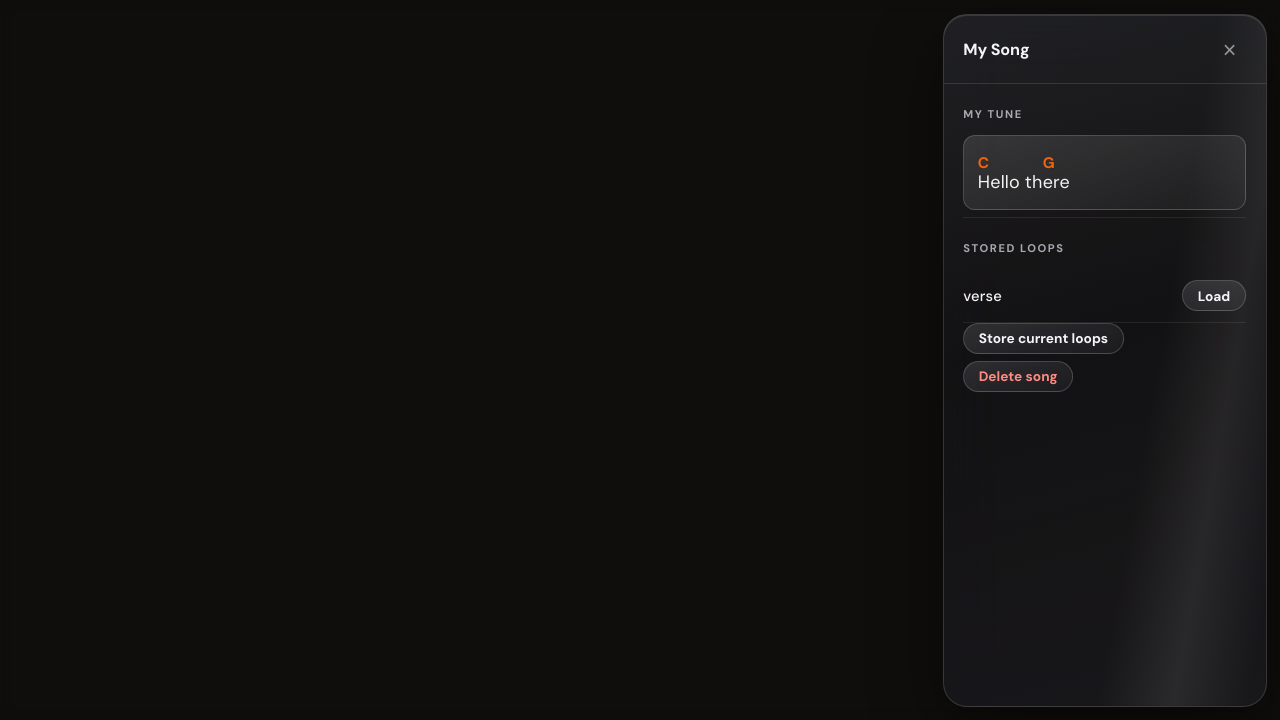
Test: MySongPanel › deletes the song after confirm and returns to the import form
expect the heading "My Tune" is shown: met, box [963,107,1023,121]
Click the button "Delete song": click(1018, 376) [963,361,1073,392]
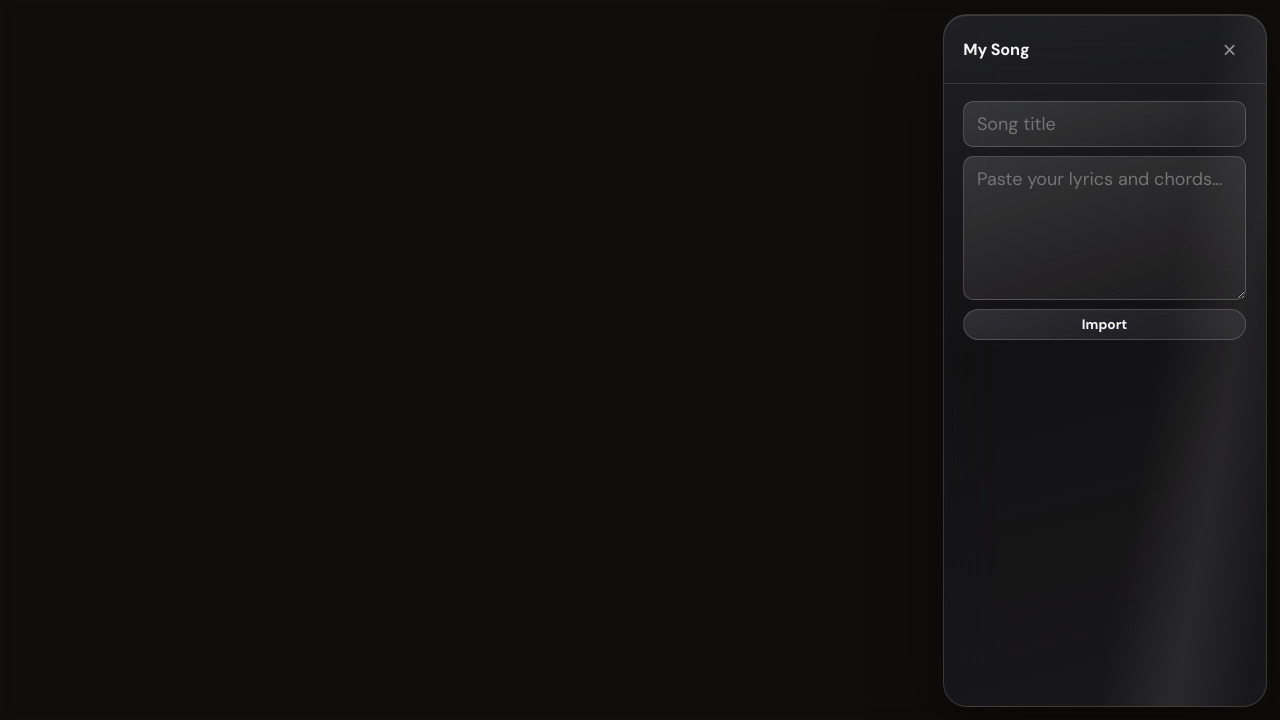
expect the field with placeholder "Song title" is shown: met, box [963,101,1246,147]
